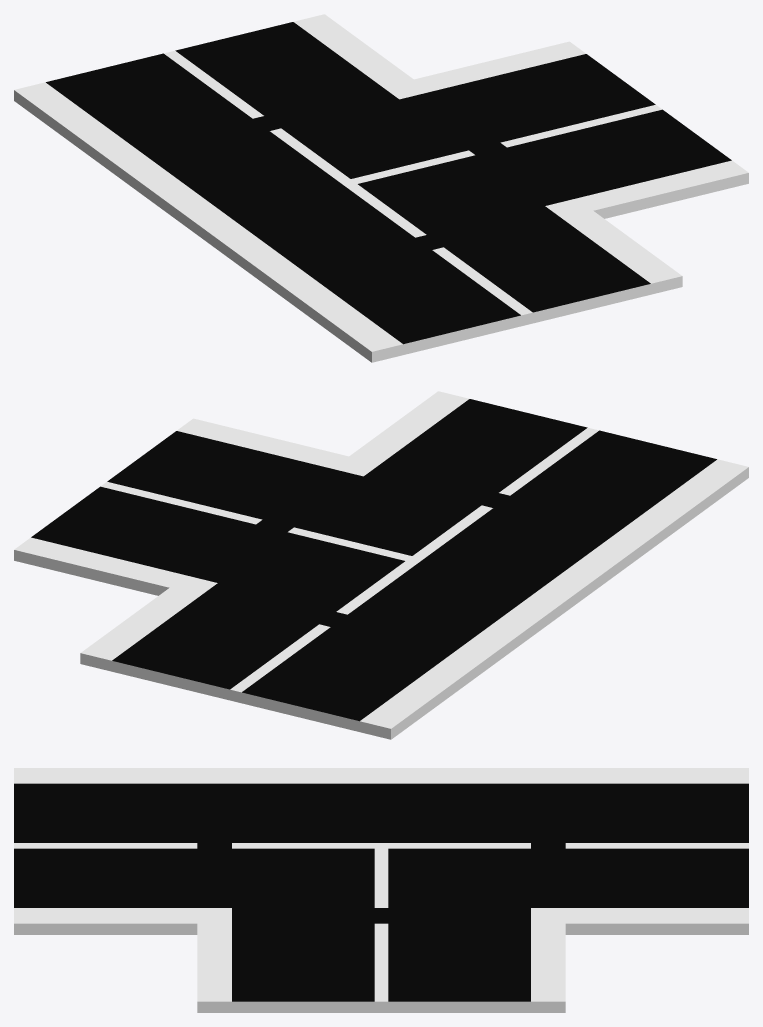
The model's file is 3_side_road.fbx.
3 renders of one model, top to bottom at view 1: azimuth 30°, elevation 25°; view 2: azimuth 150°, elevation 25°; view 3: azimuth 270°, elevation 25°, orthographic. The views are drawn at different scales.
Parts seen in each view (by area): view 1: 3 side road; view 2: 3 side road; view 3: 3 side road.
Part boxes in pixels (bbox=[...]): 3 side road: bbox=[14, 14, 748, 362]; 3 side road: bbox=[14, 391, 748, 739]; 3 side road: bbox=[14, 768, 748, 1012].
Size of the model in its own units: 5.46 by 0.1223 by 7.26.
